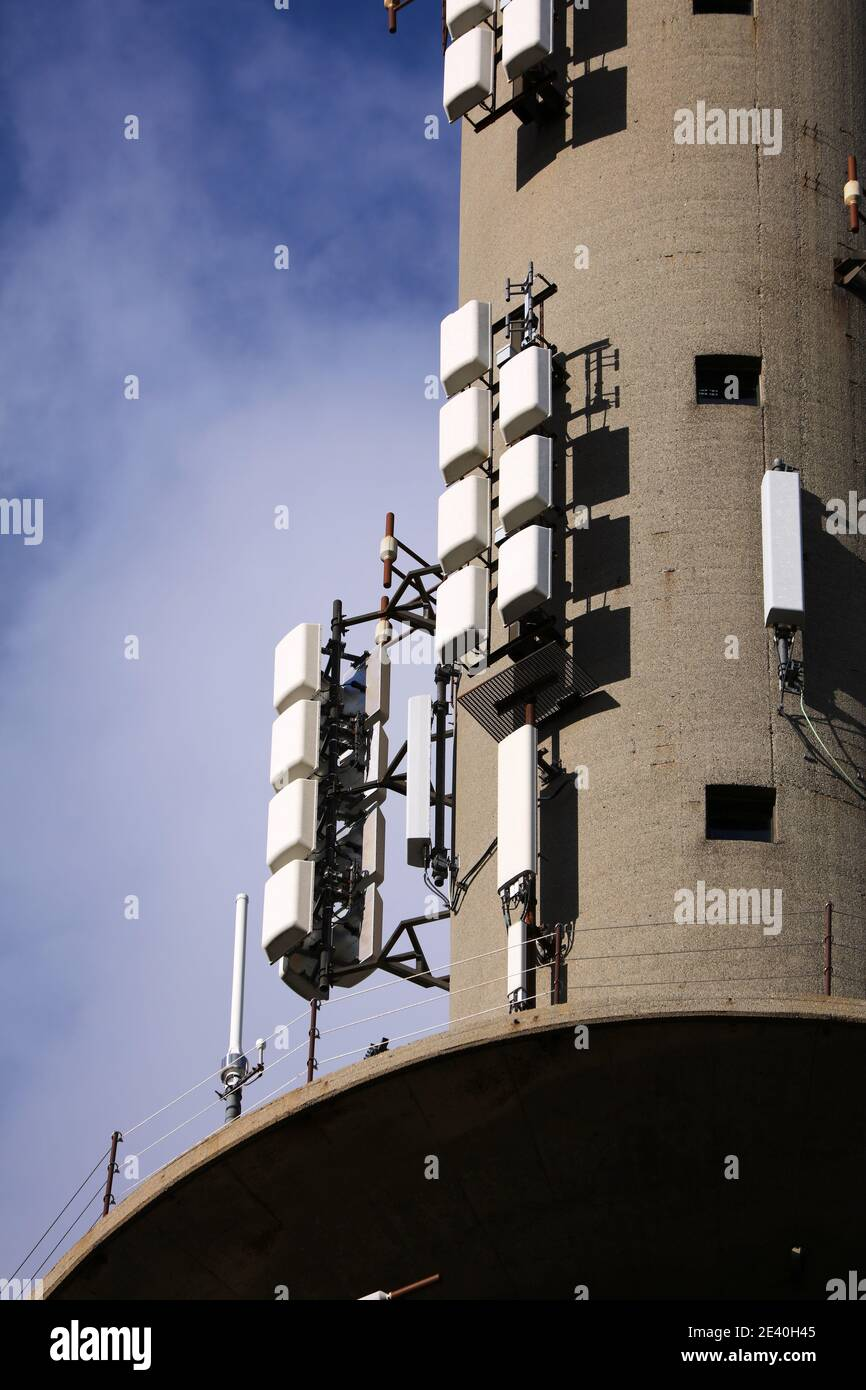sa: (473, 718, 565, 907), (385, 679, 461, 845), (763, 459, 824, 663)
